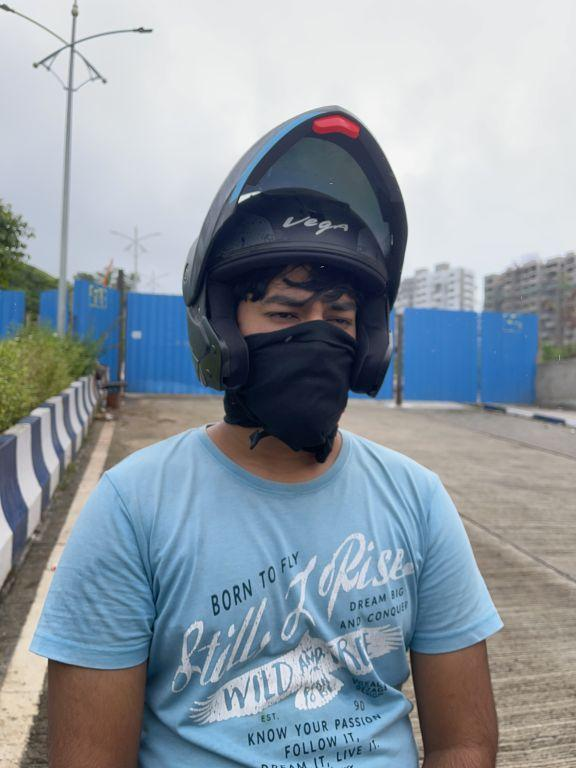helmet: (177, 89, 410, 473)
